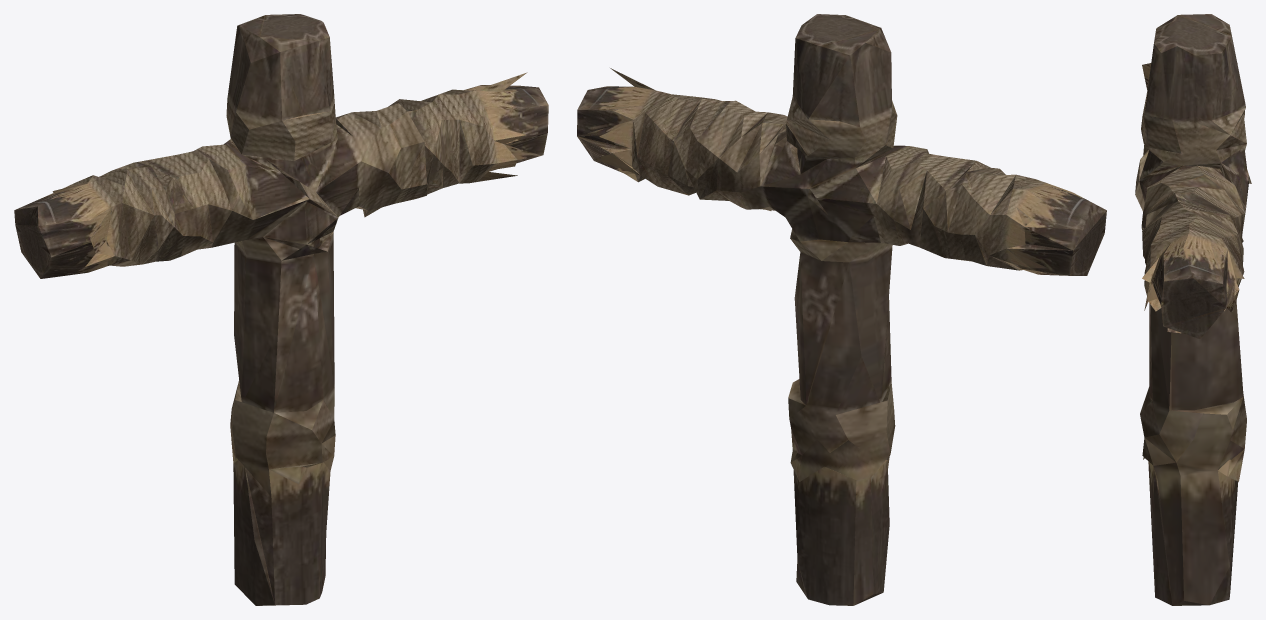
Rendered from practice-dummy.glb.
3 renders of one model, left to right at view 1: azimuth 30°, elevation 25°; view 2: azimuth 150°, elevation 25°; view 3: azimuth 270°, elevation 25°, orthographic.
Visible parts, largest first — view 1: output_unwrapped; view 2: output_unwrapped; view 3: output_unwrapped.
Part boxes in pixels (x1,y1,x2,y2): output_unwrapped: (14,14,548,605); output_unwrapped: (577,14,1106,605); output_unwrapped: (1135,14,1251,605).
Size of the model in its own units: 1.7 by 1.8 by 0.3385.
Materials: 1 (1 with a texture image).
